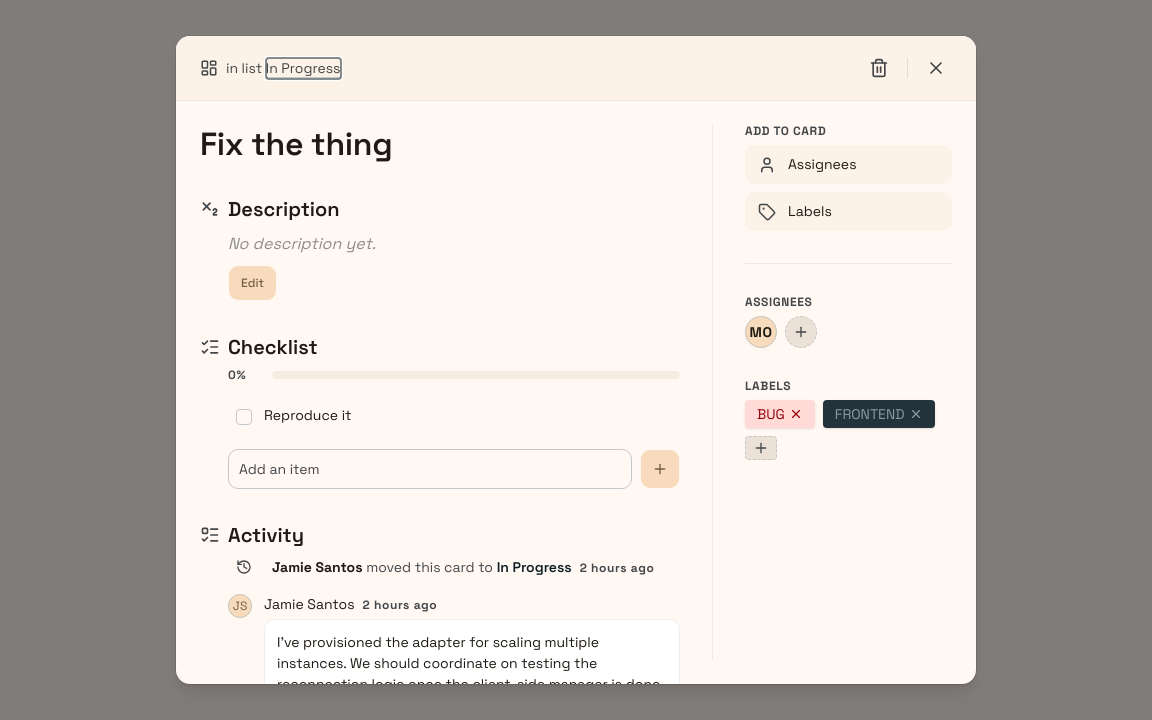
Scenario: CardDetailModal › adds a new label via the sidebar's plus button
Click the button named "Add label" at x=761, y=448, box x1=745 y1=436 x2=777 y2=460
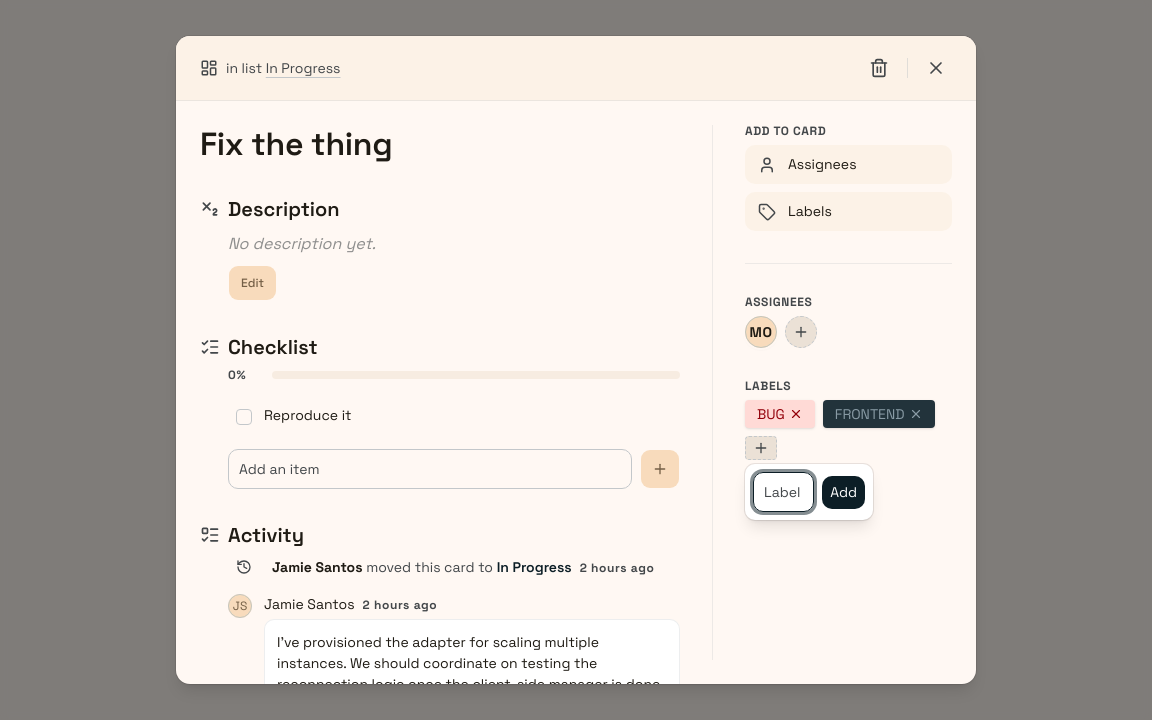
Type "Urgent" into the field named "New label name" at x=784, y=492, box x1=753 y1=472 x2=814 y2=512
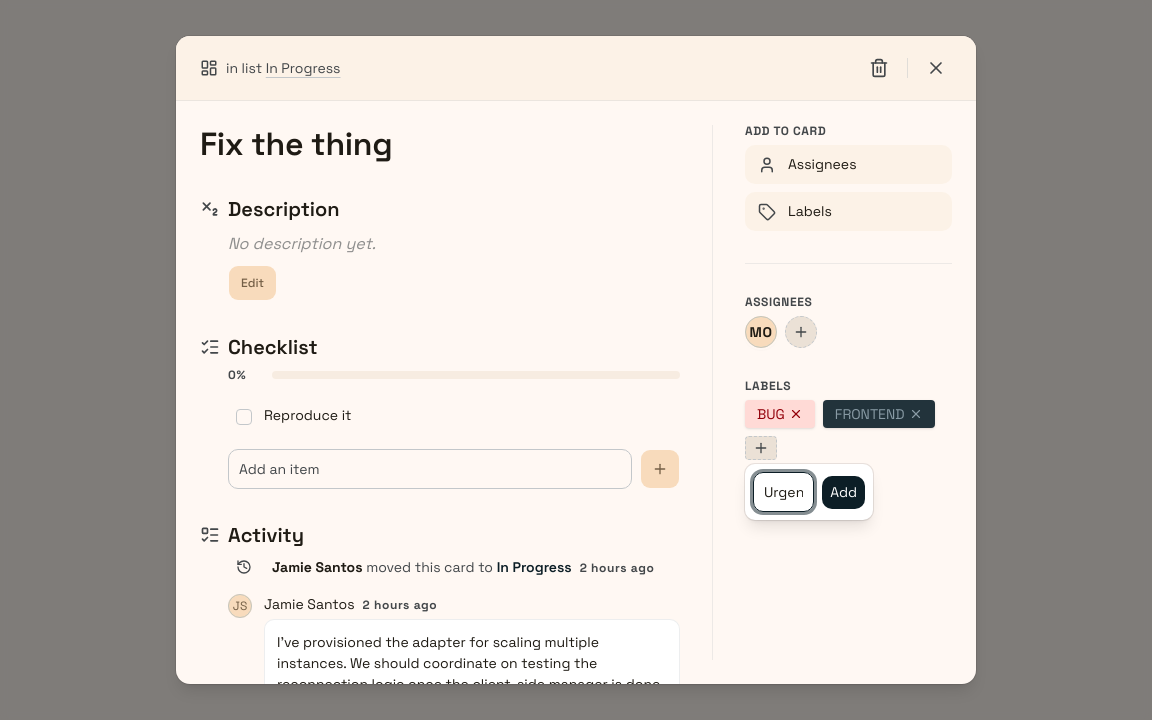
Click the button "Add" at x=844, y=492, box x1=822 y1=476 x2=865 y2=508
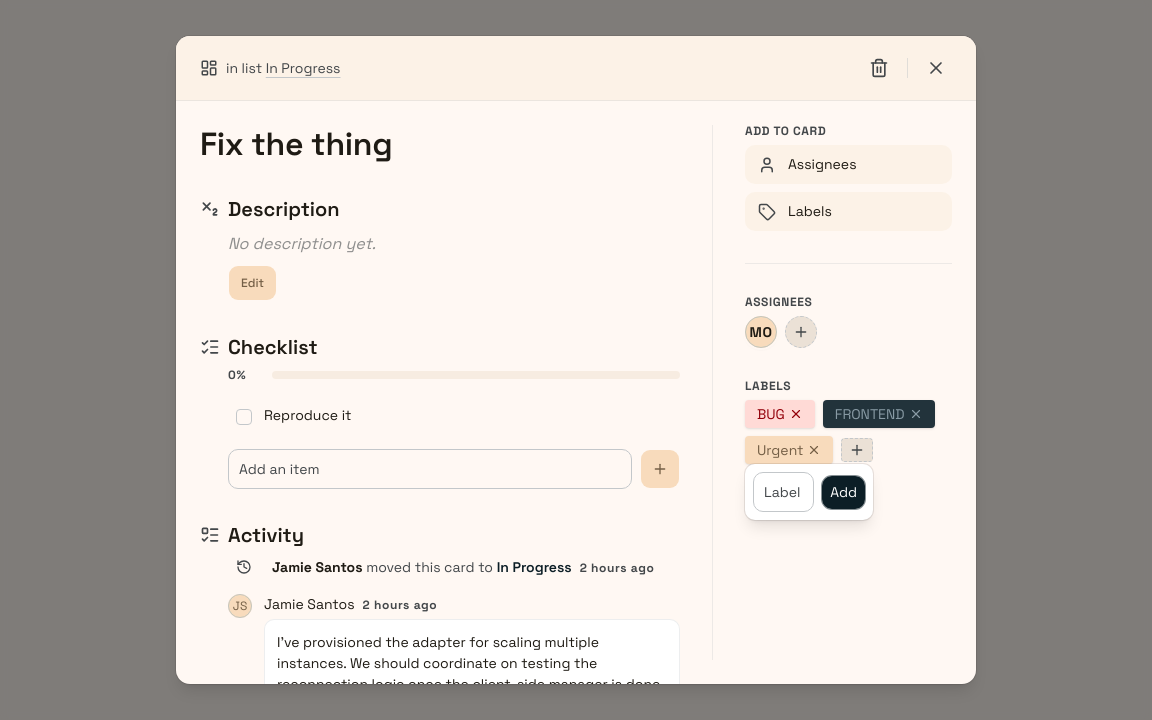
Now the button "Urgent" is shown, box x1=745 y1=436 x2=834 y2=464
